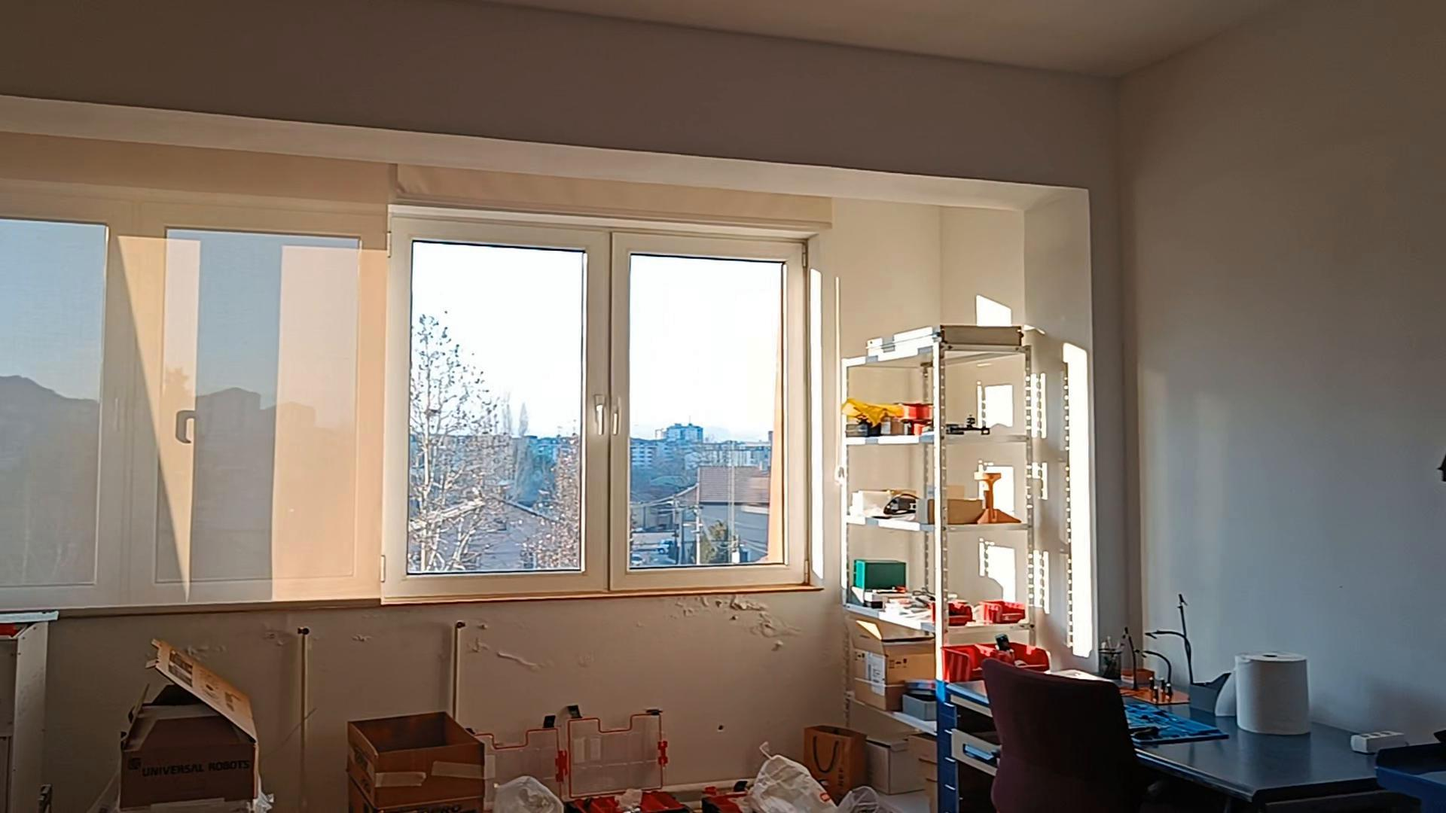ceiling: (462, 0, 1329, 75)
wall: (4, 11, 1440, 718), (318, 600, 828, 770)
